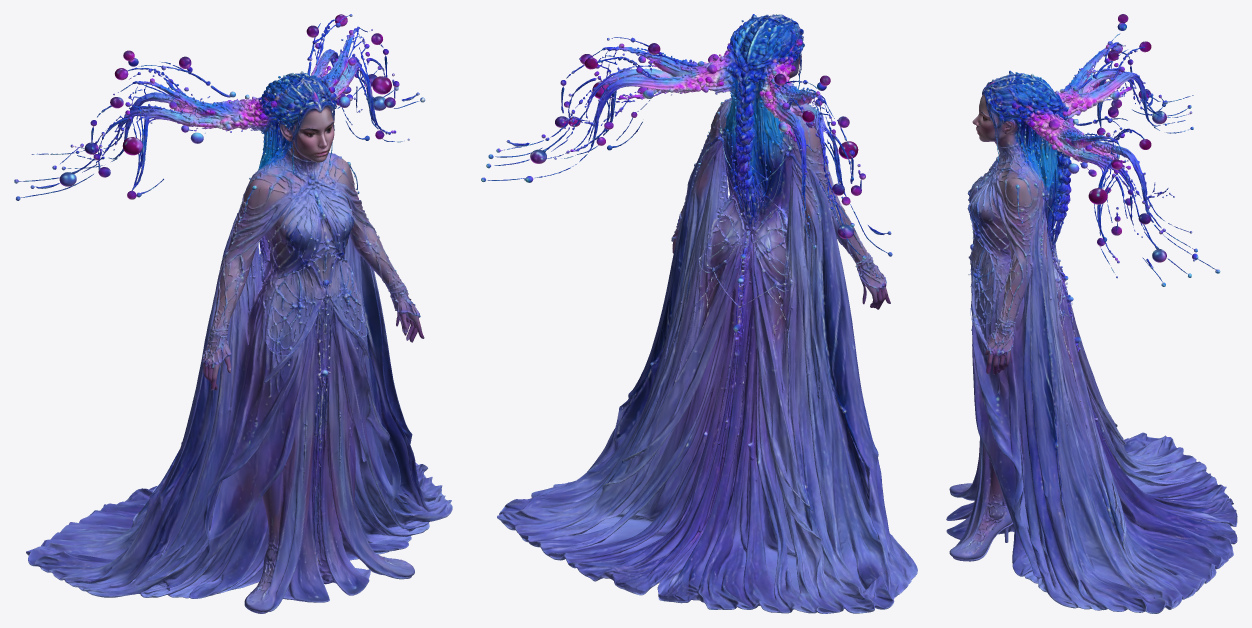
Rendered from teresa.glb.
3 views of the same model, side by side, from view 1: azimuth 30°, elevation 25°; view 2: azimuth 150°, elevation 25°; view 3: azimuth 270°, elevation 25° (orthographic). The views are drawn at different scales.
Visible parts, largest first — view 1: model; view 2: model; view 3: model.
Part boxes in pixels (<box>): model: <box>14,14,452,613</box>; model: <box>481,14,917,613</box>; model: <box>946,14,1237,613</box>.
Bounding box in the file's own units: 1.59 × 1.9 × 1.07.
Materials: 1 (1 with a texture image).
